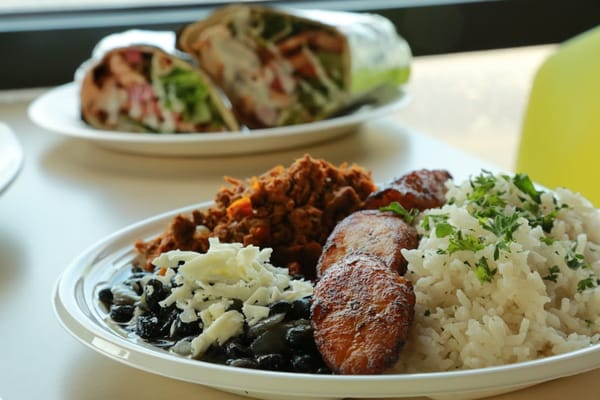sushi: (59, 152, 600, 394), (11, 5, 415, 156)
